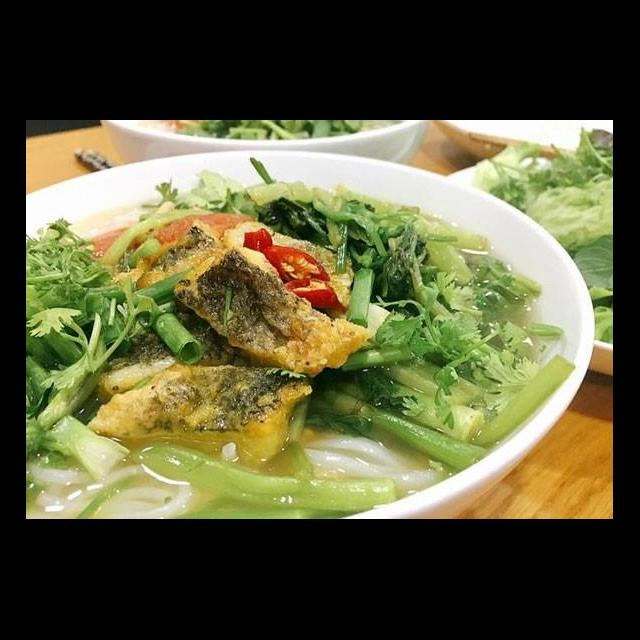bun: (286, 428, 474, 486), (28, 456, 198, 520)
ca: (168, 242, 380, 378), (80, 360, 318, 468)
